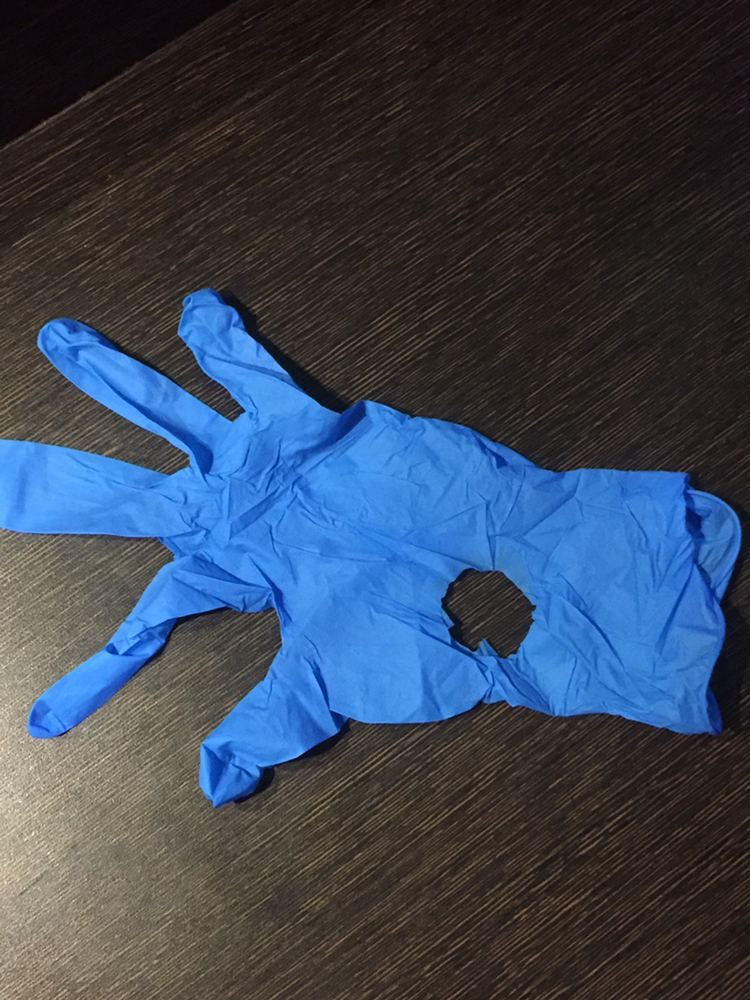defected: (7, 243, 741, 872)
